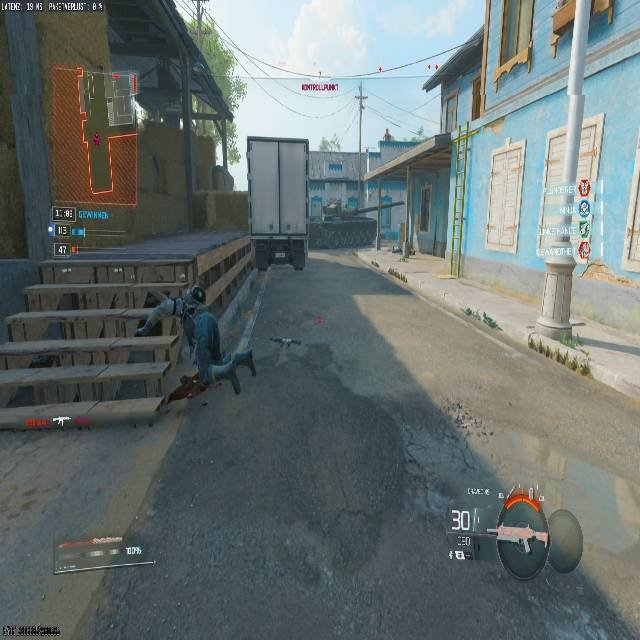player: (132, 282, 255, 407)
